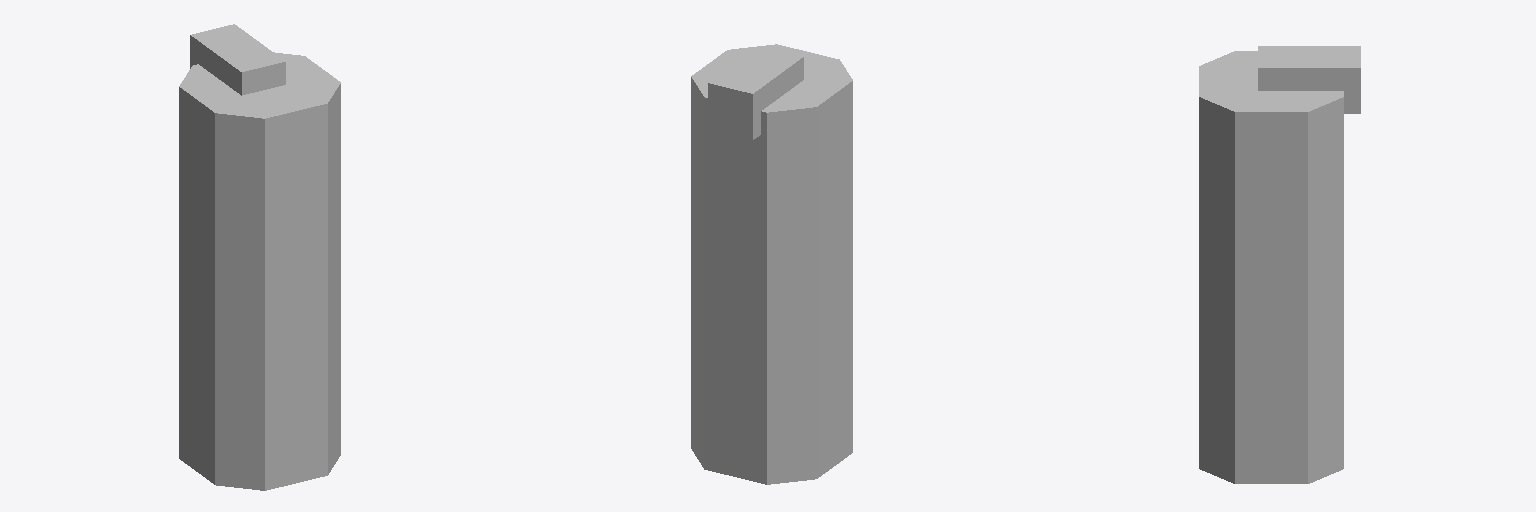
Rendered from mag_minigun.obj.
3 renders of one model, left to right at view 1: azimuth 30°, elevation 25°; view 2: azimuth 150°, elevation 25°; view 3: azimuth 270°, elevation 25°, orthographic.
Visible parts, largest first — view 1: gunModel.001; view 2: gunModel.001; view 3: gunModel.001.
Boxes of the visible parts, <box> form: gunModel.001: <box>179,24,340,490</box>; gunModel.001: <box>691,44,852,484</box>; gunModel.001: <box>1199,46,1360,483</box>.
Size of the model in its own units: 0.0884 by 0.2656 by 0.0985.